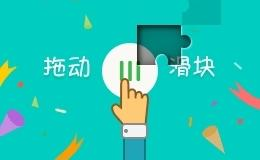target: (115, 5, 159, 45)
